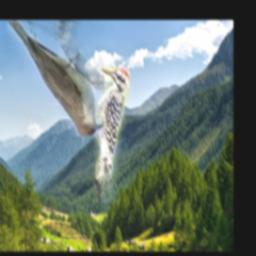Cuckoo: (7, 21, 104, 137)
Woodpecker: (92, 68, 129, 204)
